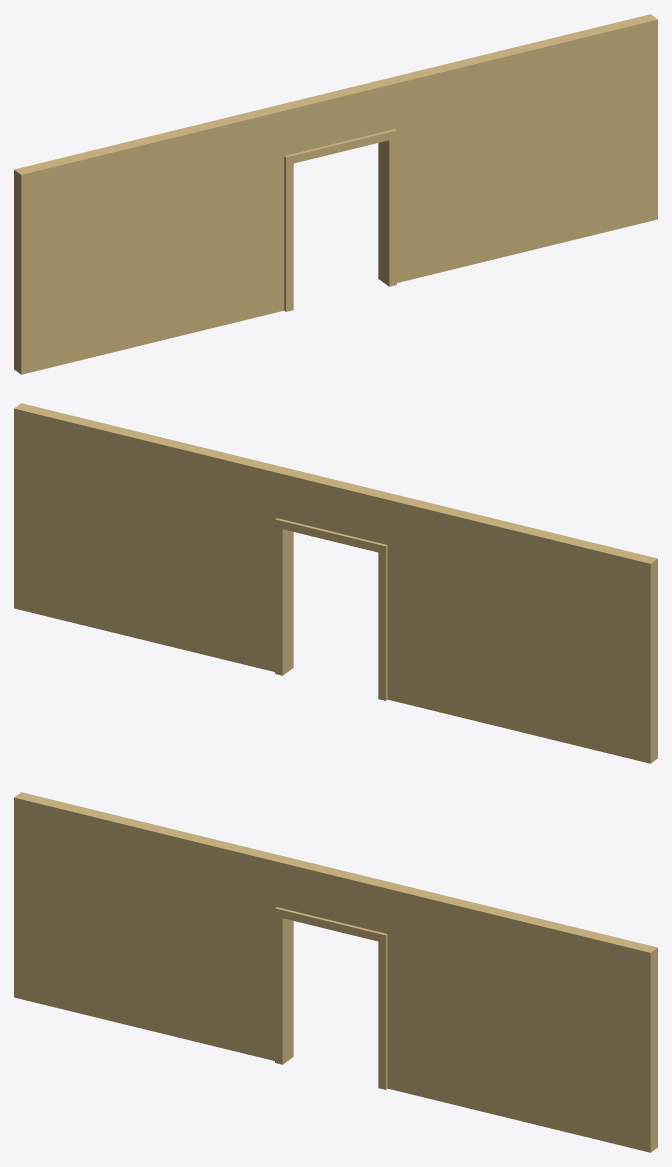
The model's file is mod_wall_door.glb.
3 views of the same model, one above another, from view 1: azimuth 30°, elevation 25°; view 2: azimuth 150°, elevation 25°; view 3: azimuth 330°, elevation 25° (orthographic).
Parts seen in each view (by area): view 1: Mod_WallDoor; view 2: Mod_WallDoor; view 3: Mod_WallDoor.
Boxes of the visible parts, x1,y1,x2,y2 form: Mod_WallDoor: [14, 14, 657, 374]; Mod_WallDoor: [14, 403, 657, 763]; Mod_WallDoor: [14, 792, 657, 1152].
Bounding box in the file's own units: 10 × 3 × 0.3.
